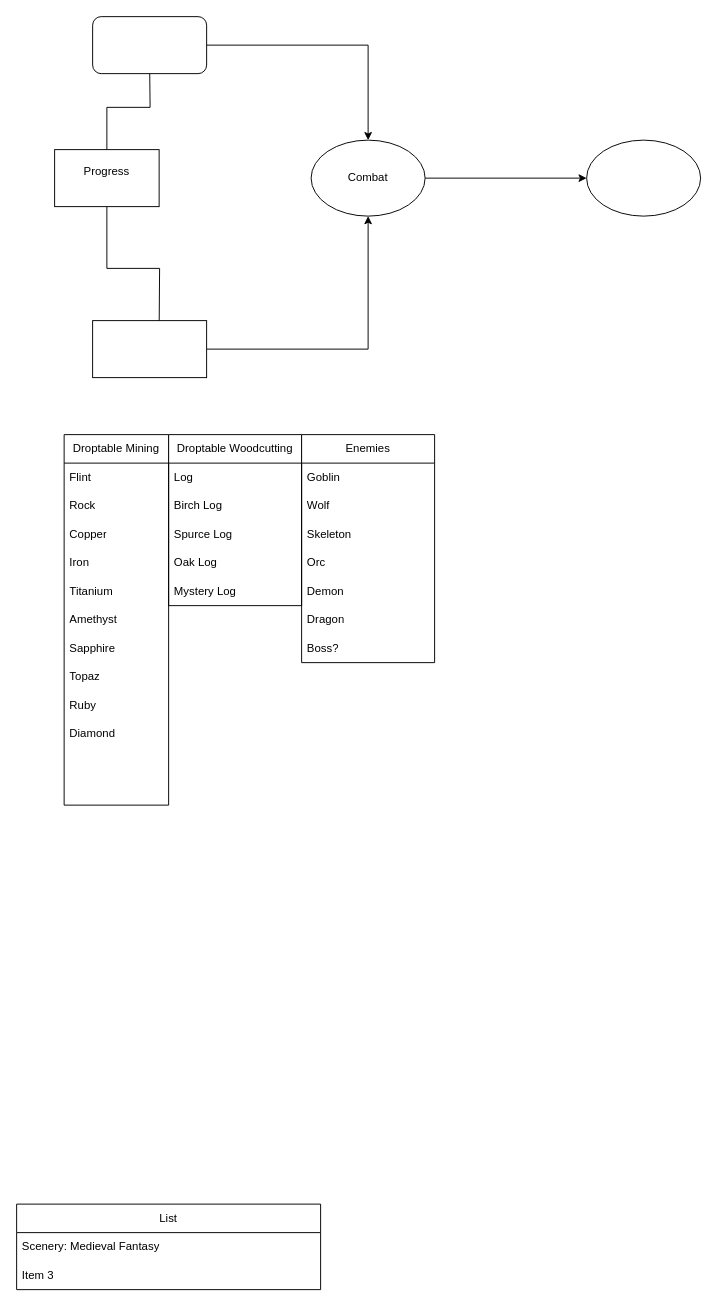
Image size: 717x1306. Some labels were removed from this diagram. Each missing label, with the centre of its shape:
Mining: point 149,349
Story: point 643,177
Woodcutting: point 149,45
